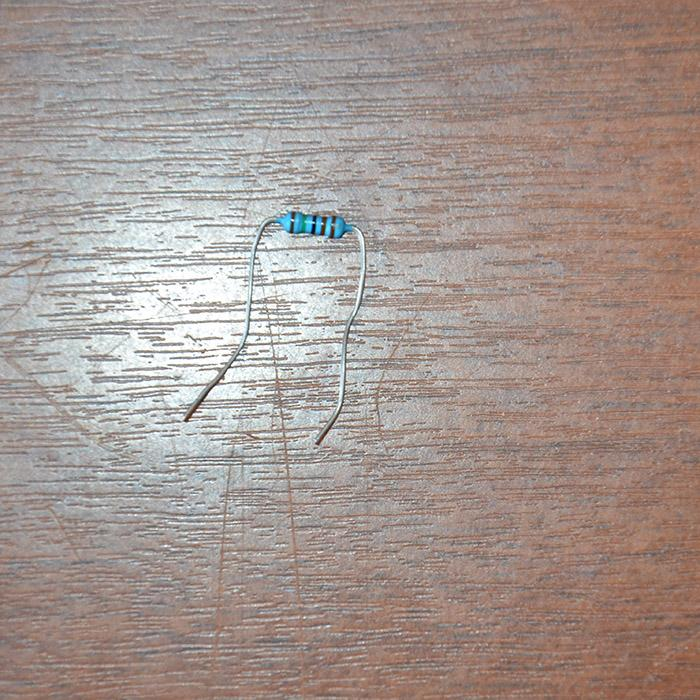resistor: (276, 210, 353, 238)
